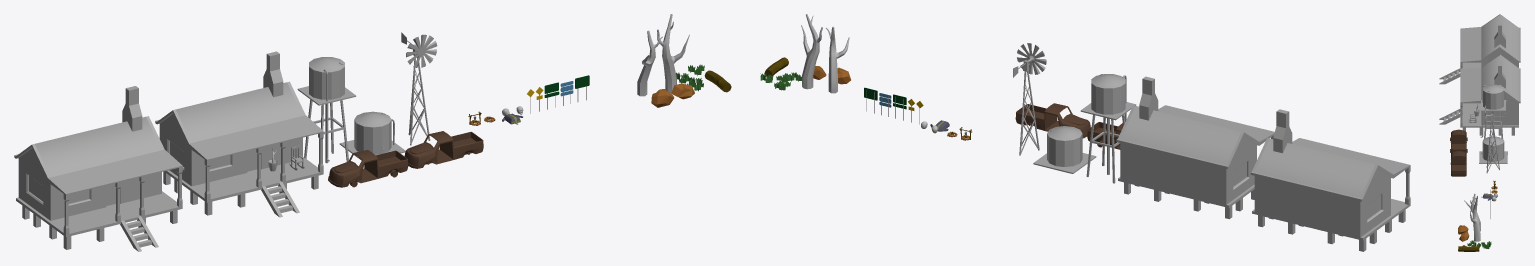
File: World_Props.fbx
The picture shows the model from 3 angles, left to right: view 1: azimuth 30°, elevation 25°; view 2: azimuth 150°, elevation 25°; view 3: azimuth 270°, elevation 25°; orthographic projection. The views are drawn at different scales.
Visible parts, largest first — view 1: House1, House, Water_Tank_2, Rusted_Truck_Wheels, Rusted_Truck, Water_Tank, Windmill, Dead_Tree_2, Dead_Tree_1; view 2: House1, House, Water_Tank_2, Water_Tank, Windmill, Rusted_Truck, Dead_Tree_2, Dead_Tree_1, Rusted_Truck_Wheels; view 3: House, House1, Water_Tank_2, Water_Tank, Rusted_Truck, Windmill, Rusted_Truck_Wheels, Dead_Tree_2, Log, Dead_Tree_1, Rock_2, Skeleton (+2 smaller).
Part boxes in pixels (x1,y1,x2,y2): House1: (14,86,182,251); House: (155,51,323,217); Water_Tank_2: (297,57,356,163); Rusted_Truck_Wheels: (328,150,408,187); Rusted_Truck: (404,131,483,168); Water_Tank: (339,111,405,160); Windmill: (401,32,437,145); Dead_Tree_2: (657,14,689,92); Dead_Tree_1: (637,30,662,96); House1: (1250,109,1410,251); House: (1116,76,1274,219); Water_Tank_2: (1080,74,1136,183); Water_Tank: (1033,126,1096,173); Windmill: (1013,43,1046,155); Rusted_Truck: (1015,103,1090,138); Dead_Tree_2: (801,14,822,89); Dead_Tree_1: (826,26,849,93); Rusted_Truck_Wheels: (1087,122,1123,149); House: (1439,54,1520,135); House1: (1439,14,1520,84); Water_Tank_2: (1480,84,1506,138); Water_Tank: (1479,136,1507,163); Rusted_Truck: (1450,151,1466,176); Windmill: (1485,105,1508,173); Rusted_Truck_Wheels: (1450,129,1467,153); Dead_Tree_2: (1470,195,1480,241); Log: (1458,245,1479,251); Dead_Tree_1: (1464,193,1480,231); Rock_2: (1458,225,1468,234); Skeleton: (1481,193,1497,200).
Size of the model in its own units: 64.74 by 10.82 by 11.7.
